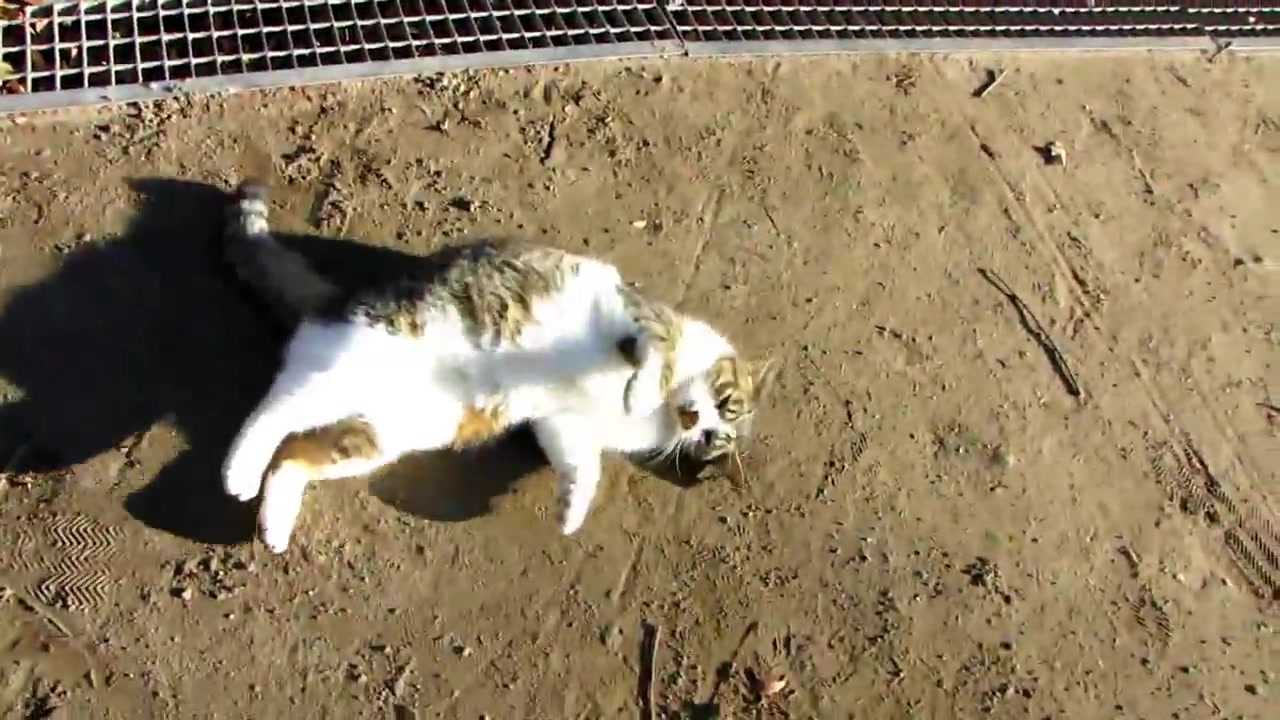cat: (220, 179, 754, 549)
